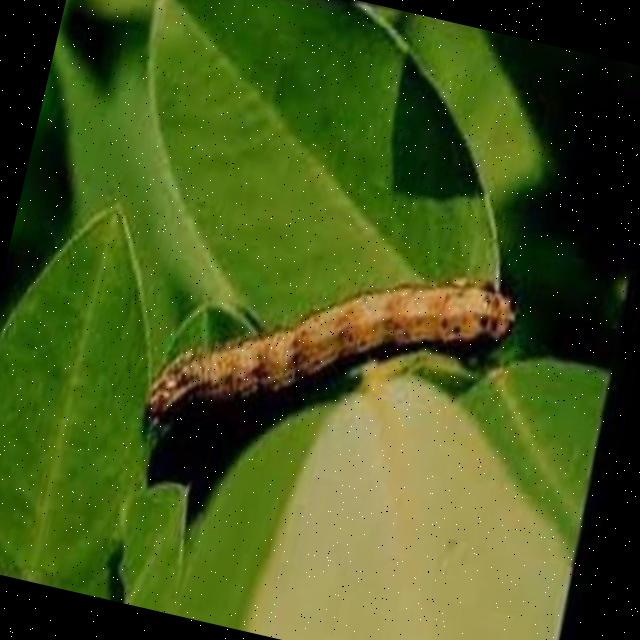worm: (140, 212, 525, 503)
